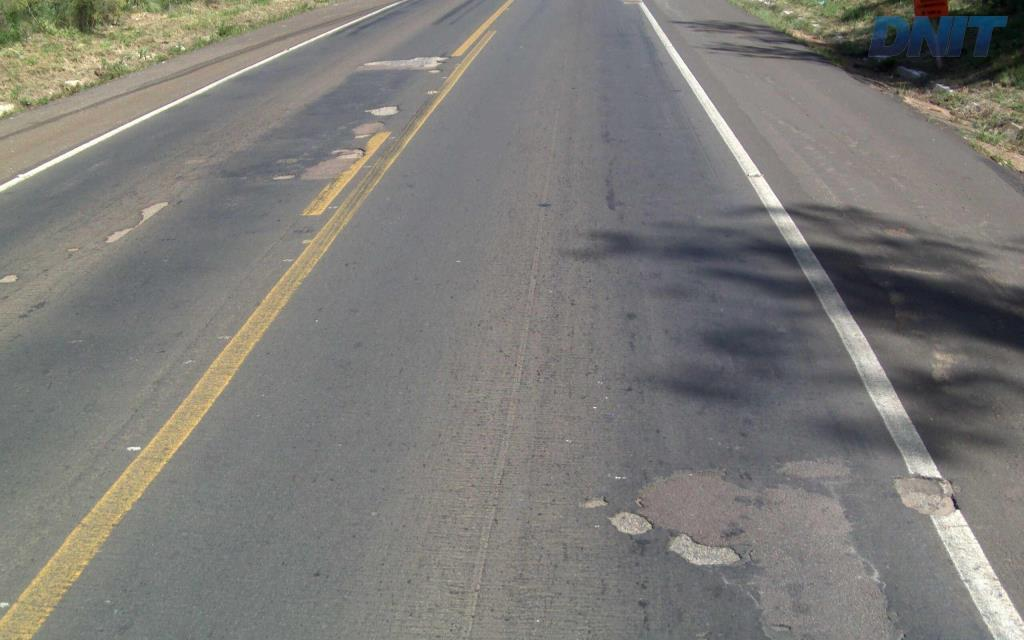pothole: (662, 528, 745, 568), (604, 506, 658, 537), (577, 492, 611, 511), (767, 621, 790, 631)
